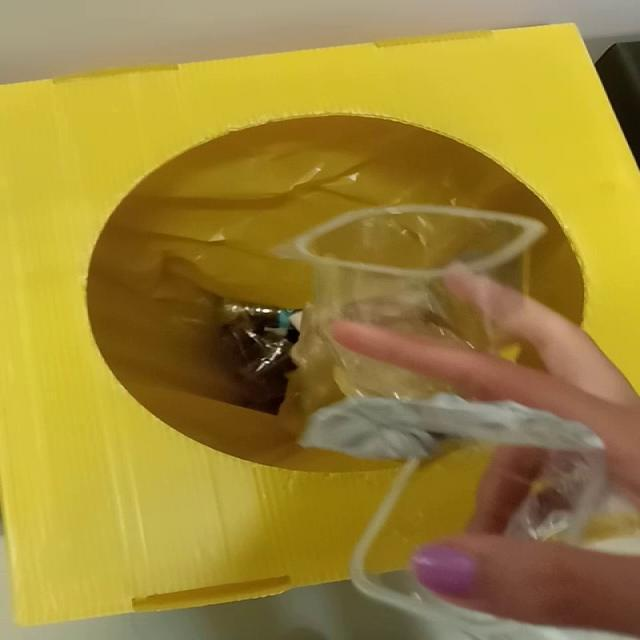Plastic: (296, 206, 545, 398)
